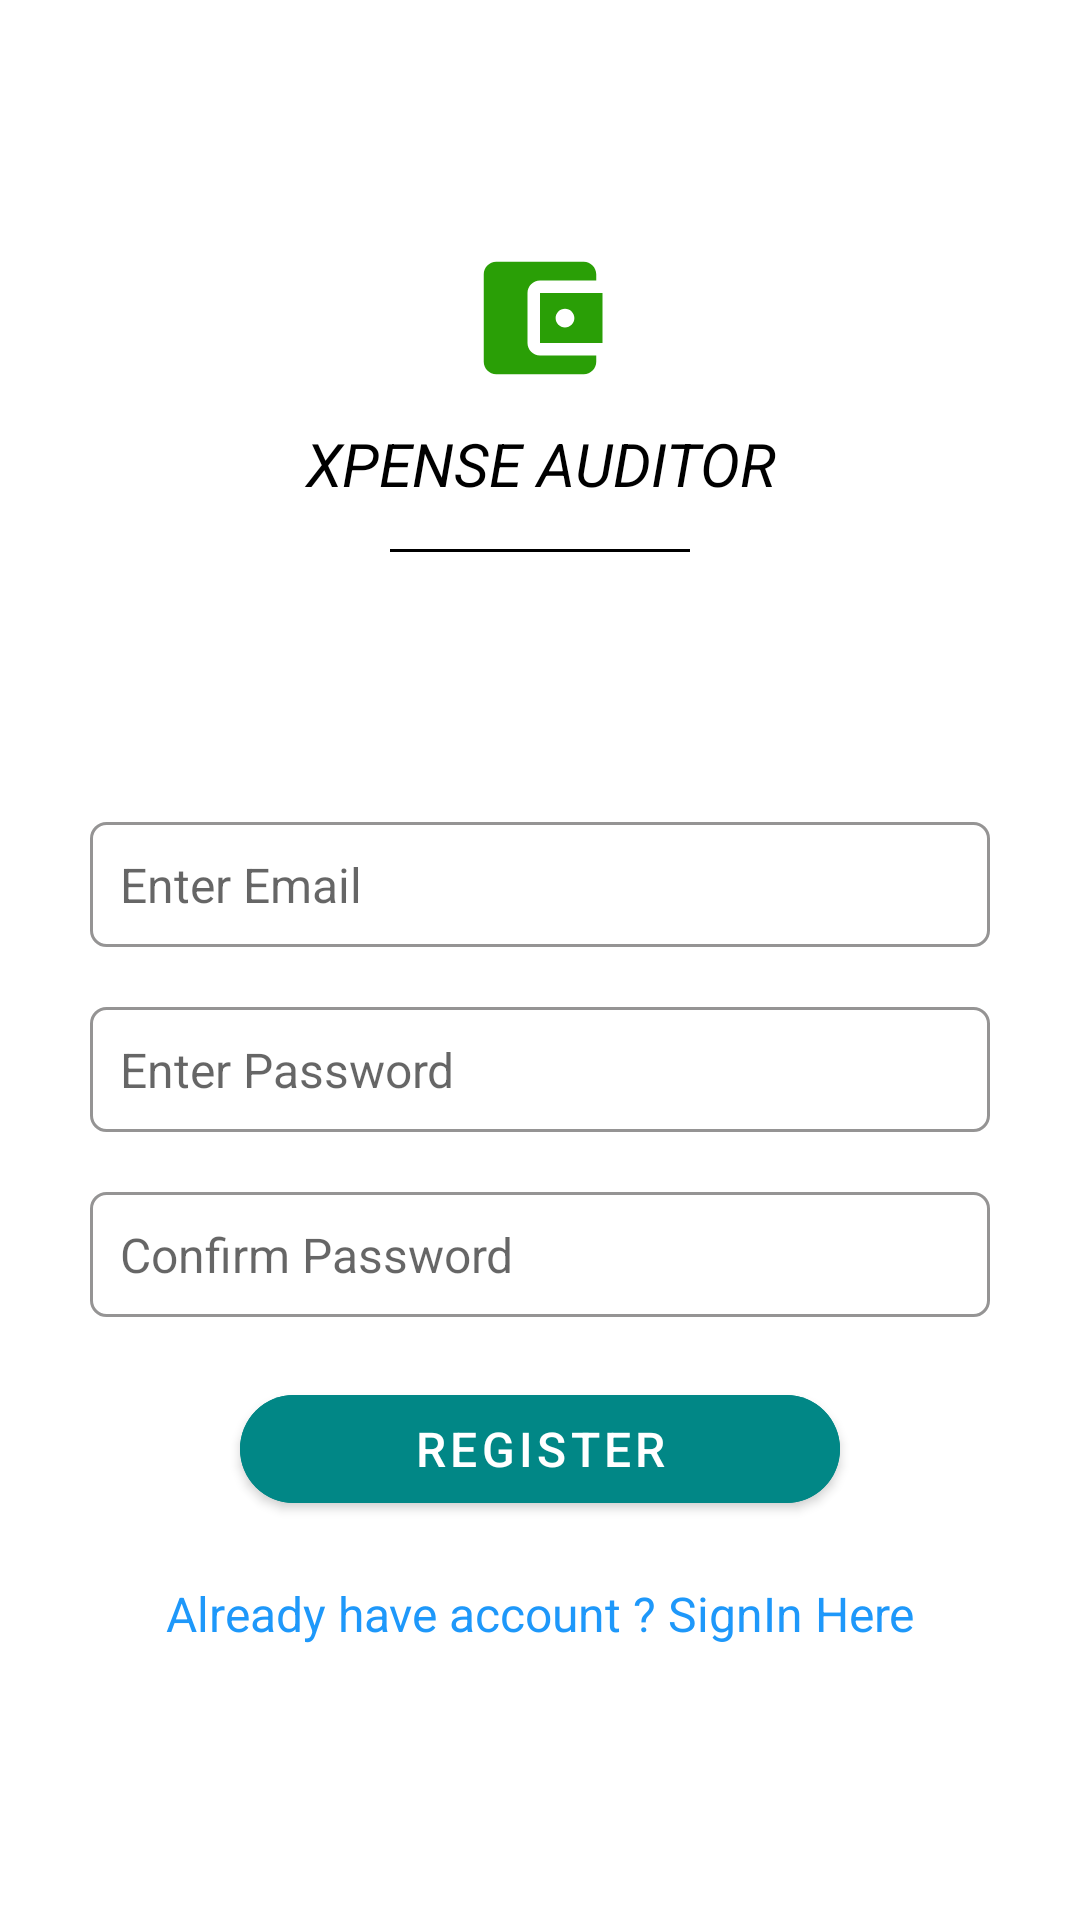

Point at icon controls on the screen. Image size 1080px×1920px, points as (x,y).
wallet: (543,318)
